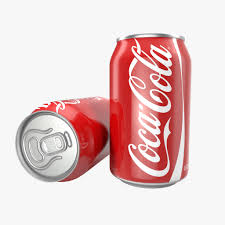can: (107, 30, 195, 191), (14, 95, 111, 184)
